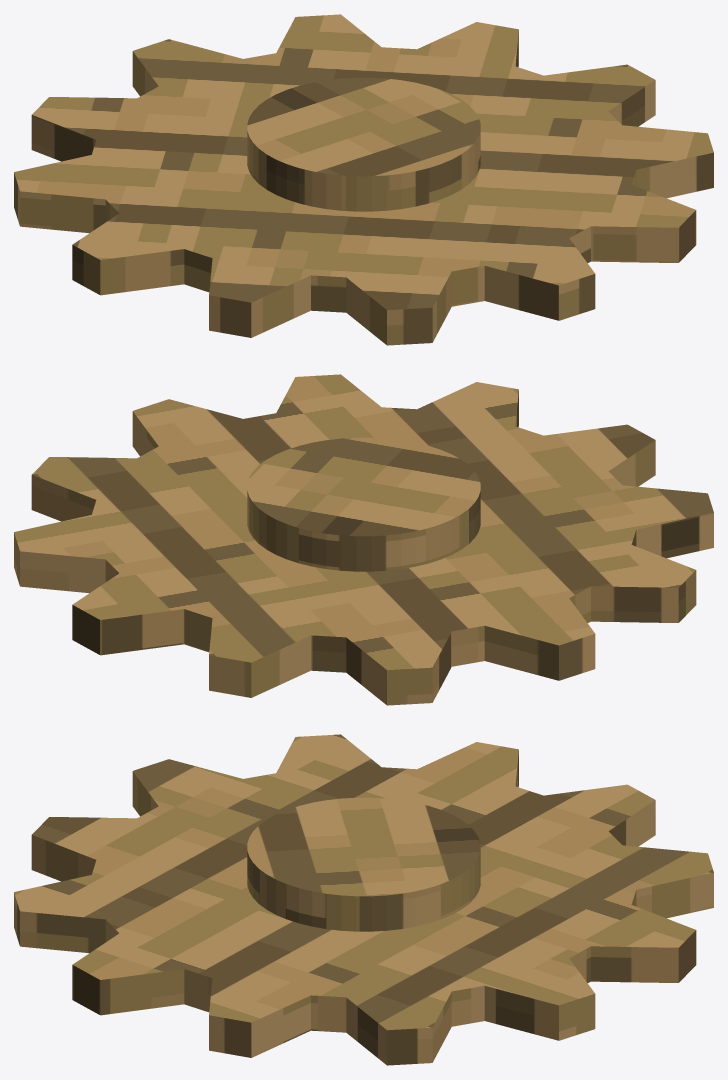
File: cog.obj
3 renders of one model, top to bottom at view 1: azimuth 30°, elevation 25°; view 2: azimuth 150°, elevation 25°; view 3: azimuth 270°, elevation 25°, orthographic.
Visible parts, largest first — view 1: Cylinder; view 2: Cylinder; view 3: Cylinder.
Part boxes in pixels (box(x1,y1,x2,y2)): Cylinder: box(14, 14, 713, 345); Cylinder: box(14, 374, 713, 705); Cylinder: box(14, 734, 713, 1065).
Size of the model in its own units: 1.12 by 0.125 by 1.12.
Materials: 1 (1 with a texture image).
